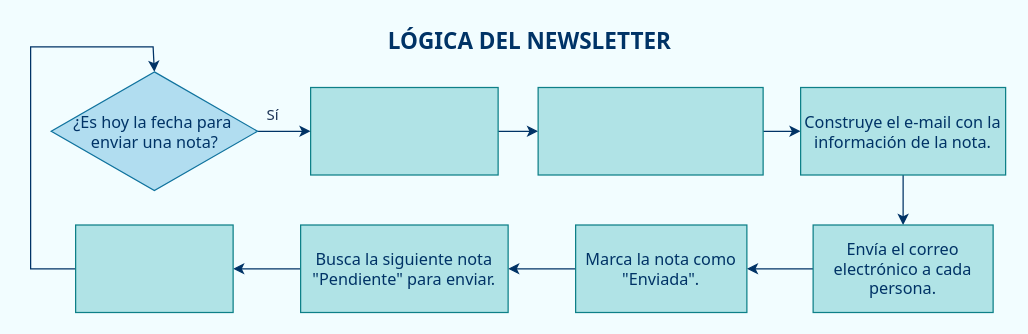
Some shapes in this 1028 by 334 pixel diagram are drawn without their labels. Each missing label, with the box of its shape:
Busca la nota marcada como "Lista" para enviar.: (309, 86, 498, 175)
Marca la nota como "Lista".: (74, 224, 233, 312)
Recopila los contactos a los que se les quiera mandar el correo.: (537, 86, 763, 175)
